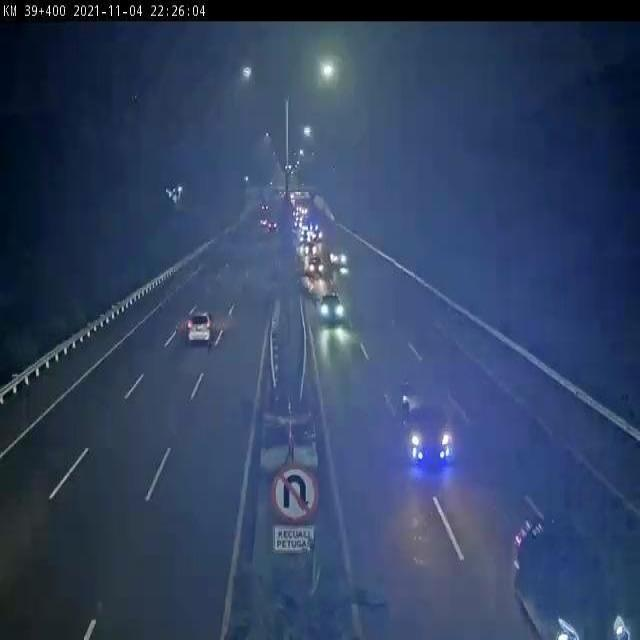Car: (510, 514, 632, 640), (403, 403, 455, 473), (318, 294, 346, 324), (329, 248, 347, 268), (308, 256, 324, 277)
Van: (186, 311, 217, 344)
